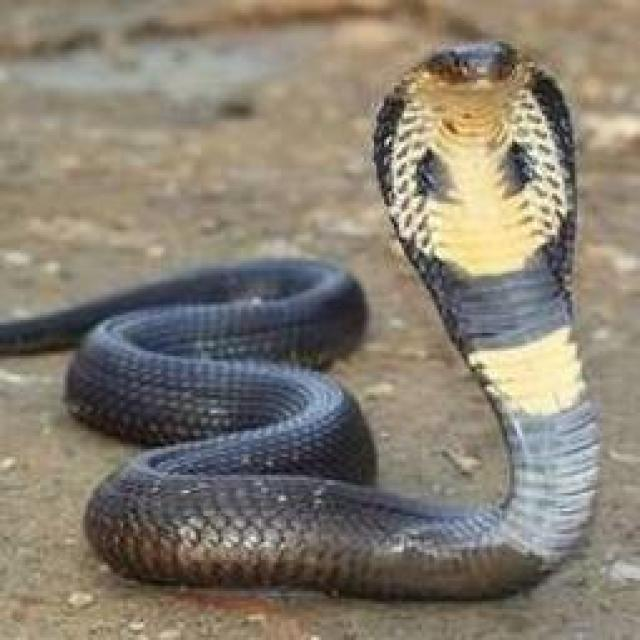Snake: (0, 31, 608, 608)
